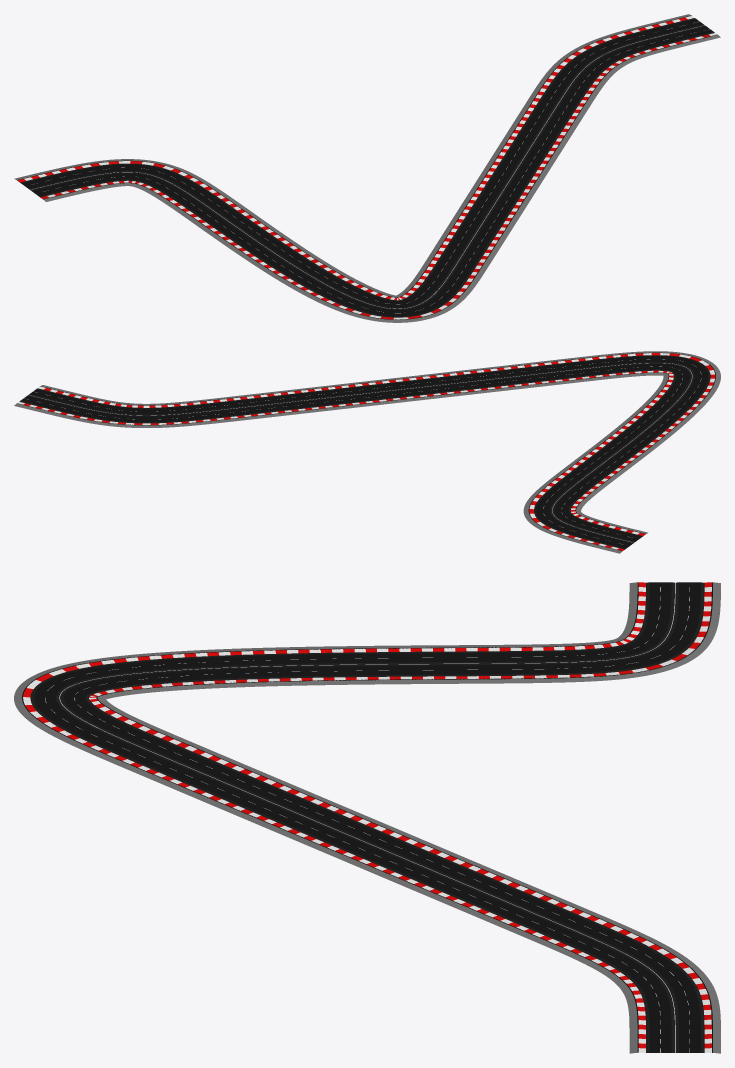
Rendered from S0.2c3-Zee.glb.
3 renders of one model, top to bottom at view 1: azimuth 30°, elevation 25°; view 2: azimuth 150°, elevation 25°; view 3: azimuth 270°, elevation 25°, orthographic. The views are drawn at different scales.
Parts seen in each view (by area): view 1: Grid; view 2: Grid; view 3: Grid.
Part boxes in pixels (left/top/right/bottom): Grid: left=14, top=14, right=720, bottom=322; Grid: left=14, top=351, right=720, bottom=553; Grid: left=14, top=582, right=720, bottom=1053.
Size of the model in its own units: 304 by 0.31 by 193.
